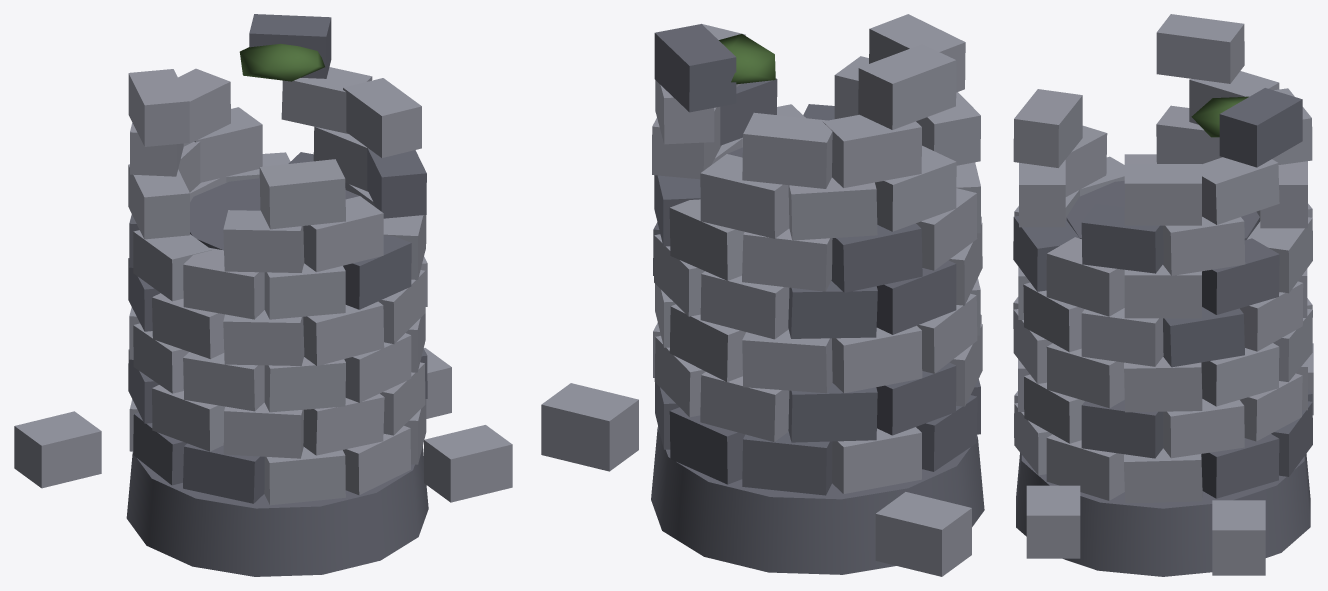
Rendered from ruin.glb.
3 views of the same model, side by side, from view 1: azimuth 30°, elevation 25°; view 2: azimuth 150°, elevation 25°; view 3: azimuth 270°, elevation 25° (orthographic). The views are drawn at different scales.
Parts seen in each view (by area): view 1: ruin_footing; view 2: ruin_footing; view 3: ruin_footing.
Boxes of the visible parts, left/top/right/bottom form: ruin_footing: left=14, top=14, right=512, bottom=576; ruin_footing: left=541, top=14, right=984, bottom=576; ruin_footing: left=1013, top=14, right=1313, bottom=576.
Bounding box in the file's own units: 3.69 × 3.98 × 2.48.
